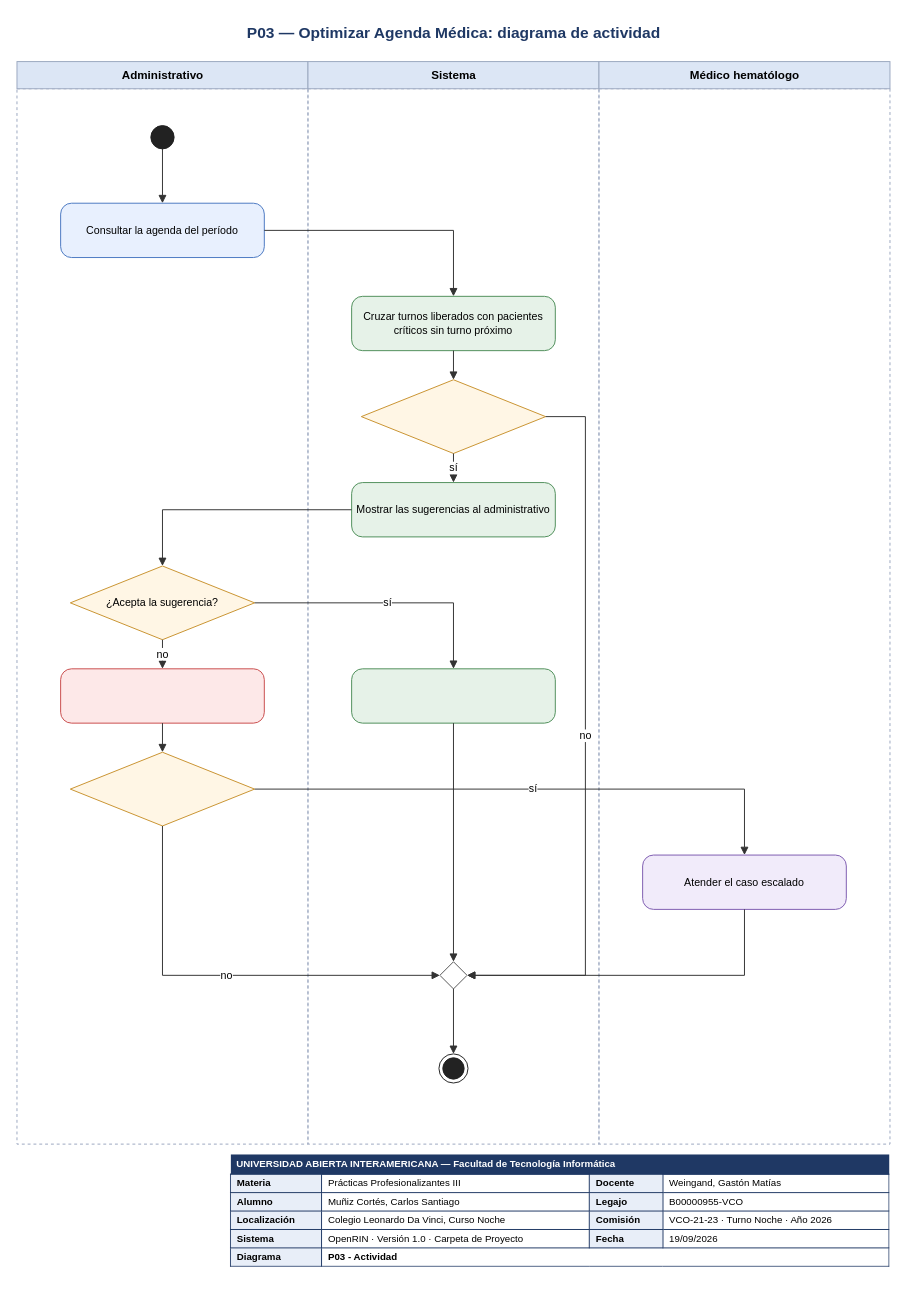
This 907x1303 diagram has some shape labels left out. The box of each missing label's shape, as (x1, y1, x2, y2) in pixels:
Reasignar el turno, persistir y notificar: (351, 668, 555, 723)
Registrar el motivo del rechazo: (60, 668, 264, 723)
¿Escalar al médico?: (69, 751, 255, 826)
¿Hay sugerencias?: (360, 379, 546, 453)
